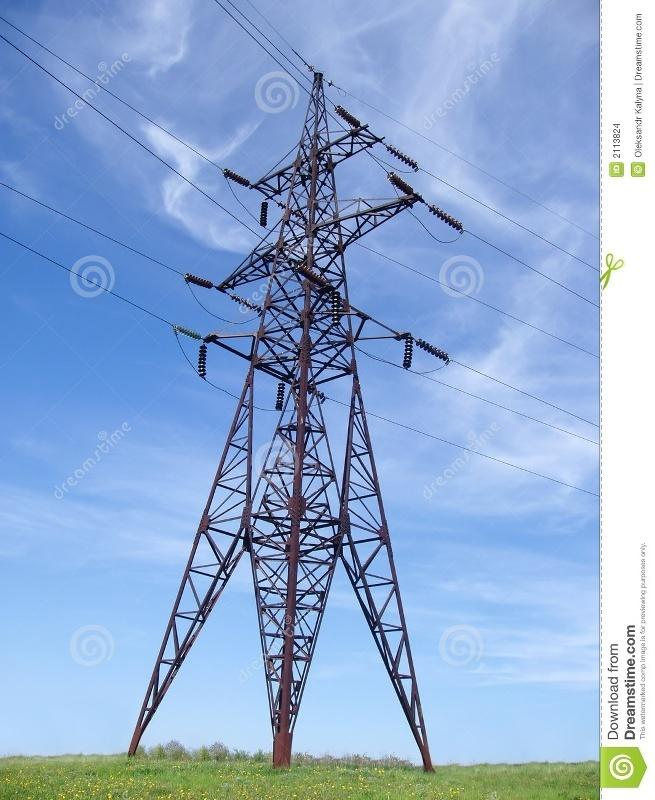power_tower: (136, 57, 452, 772)
